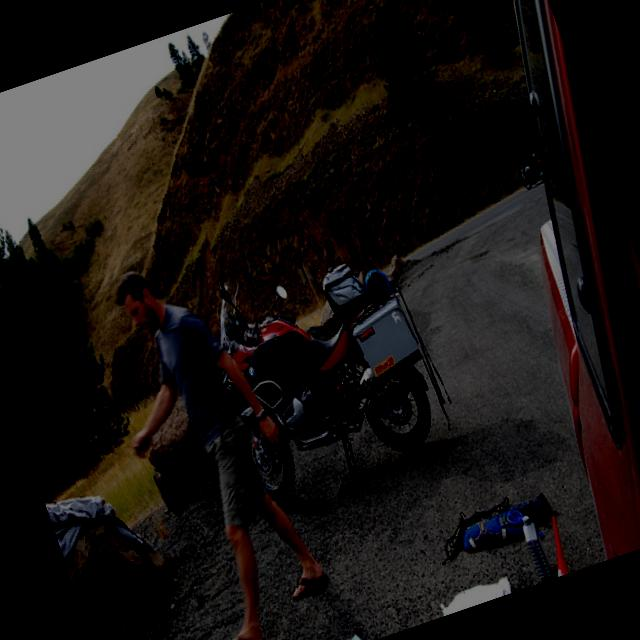Vehicle: (393, 0, 640, 561), (190, 226, 461, 512)
